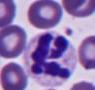N: (28, 30, 76, 88)
